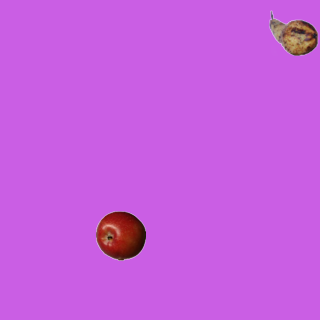Apple Braeburn: (95, 210, 145, 260)
Pear Abate: (268, 8, 318, 58)
